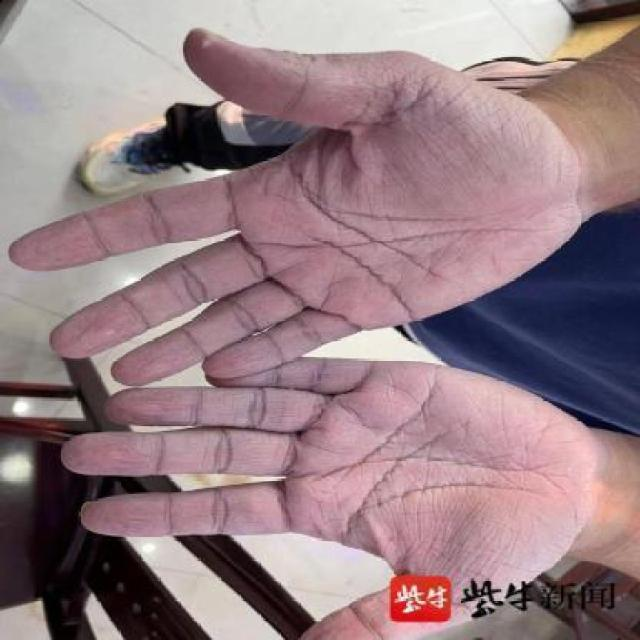hand_noglove: (6, 27, 586, 382), (52, 355, 590, 631)
